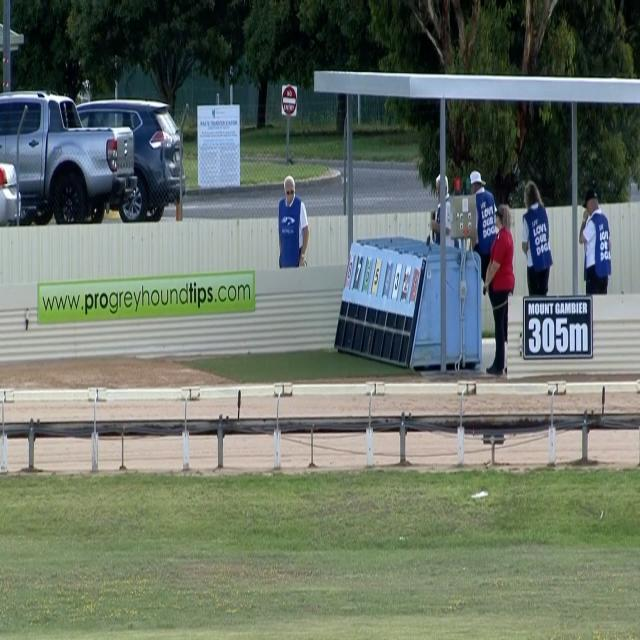rail: (0, 414, 640, 438)
